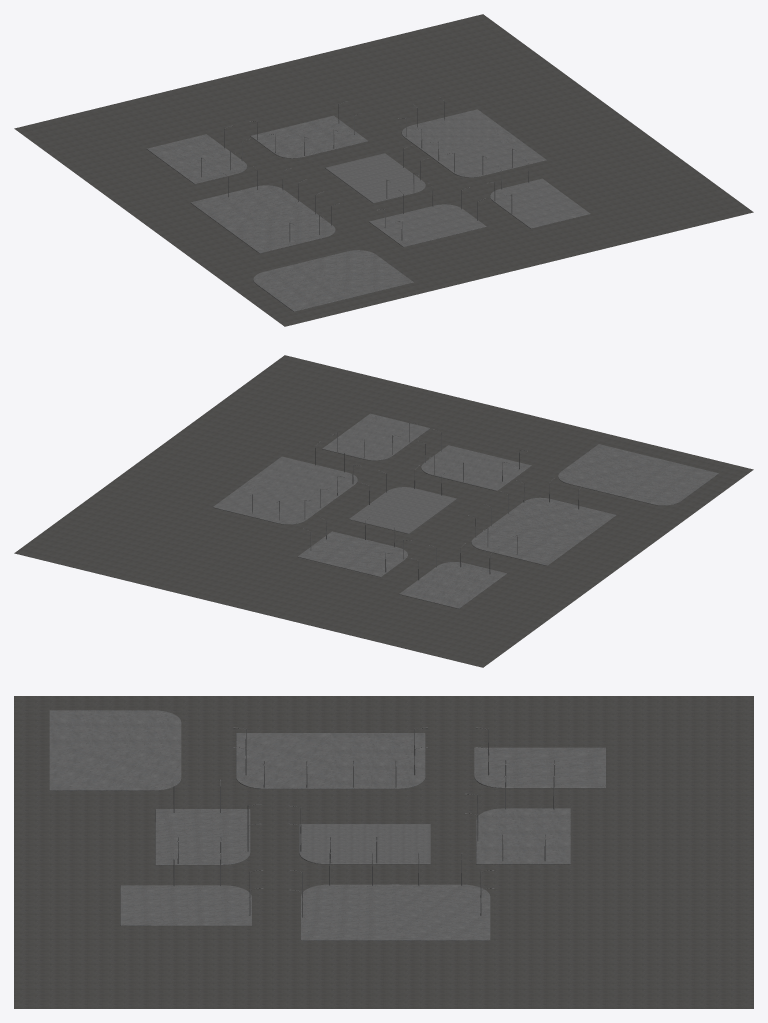
Rendered from flynns-neighborhood.dae.
3 views of the same model, one above another, from view 1: azimuth 30°, elevation 25°; view 2: azimuth 150°, elevation 25°; view 3: azimuth 270°, elevation 25° (orthographic). The views are drawn at different scales.
Visible parts, largest first — view 1: ground, sidewalk_001, sidewalk, lampposts-background; view 2: ground, sidewalk_001, sidewalk, lampposts-background; view 3: ground, sidewalk_001, sidewalk, lampposts-background, lampposts-foreground.
Part boxes in pixels (x1,y1,x2,y2): ground: (14,14,753,326); sidewalk_001: (147,109,590,311); sidewalk: (325,153,425,203); lampposts-background: (201,97,529,241); ground: (14,355,753,667); sidewalk_001: (212,413,718,608); sidewalk: (349,487,456,533); lampposts-background: (248,423,583,580); ground: (14,696,753,1008); sidewalk_001: (49,710,605,940); sidewalk: (299,824,430,864); lampposts-background: (173,727,554,917); lampposts-foreground: (247,760,478,885).
Bounding box in the file's own units: 224 × 224 × 9.61.
Materials: 4 (4 with a texture image).
